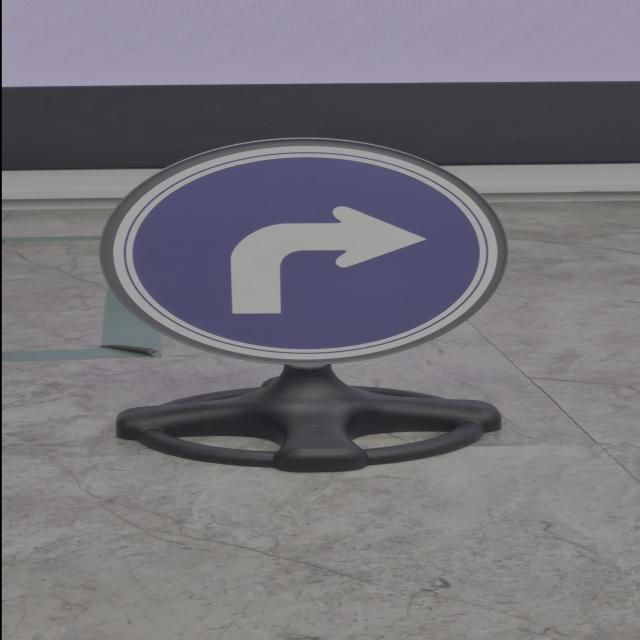right_dierection: (86, 127, 567, 390)
